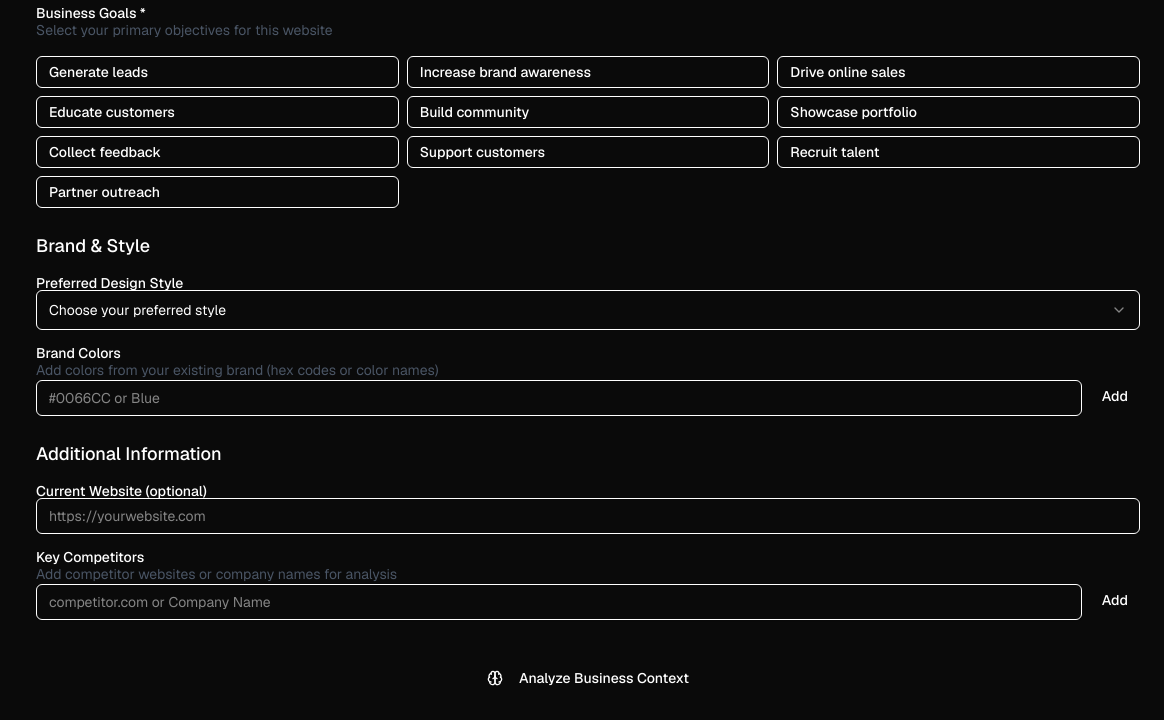
Test: BusinessContextAnalyzer › Form Validation › shows validation error for empty business name
(page scrolled)
What coordinates should you click on to do the following:
click the button "Analyze Business Context"
I would click on:
 (588, 678)
Its box is x1=475 y1=660 x2=701 y2=696.
(page scrolled)
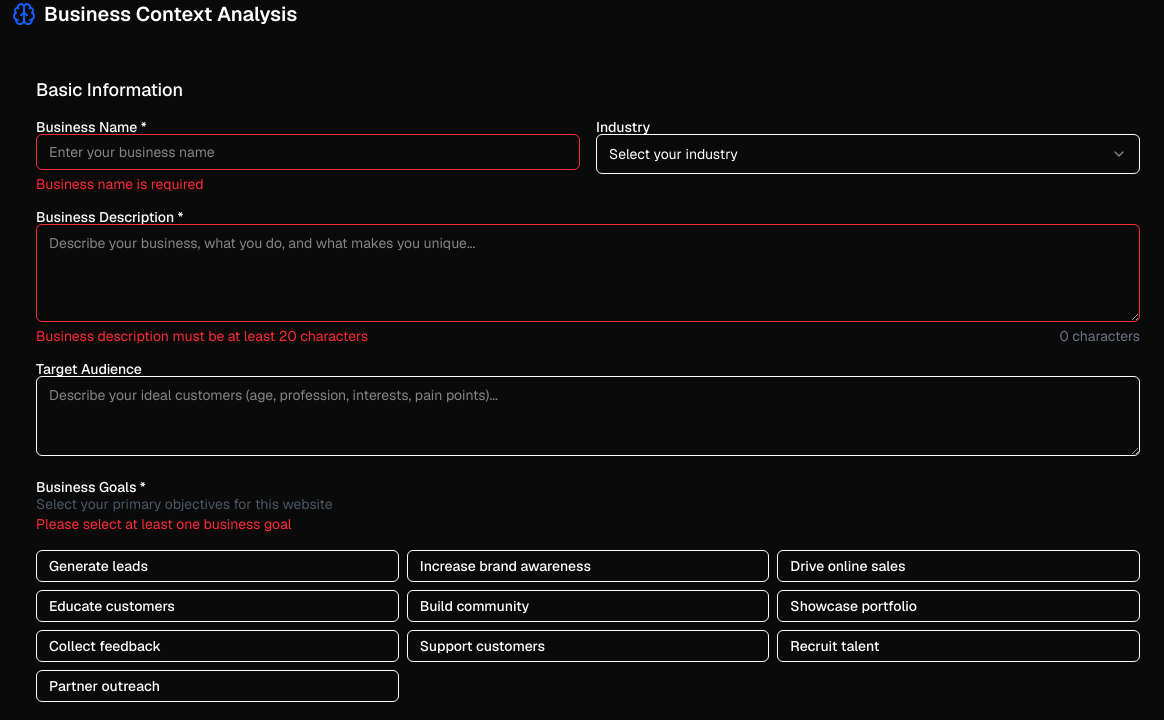
Expected: the text "Business name is required" is shown, x1=36 y1=175 x2=204 y2=193
